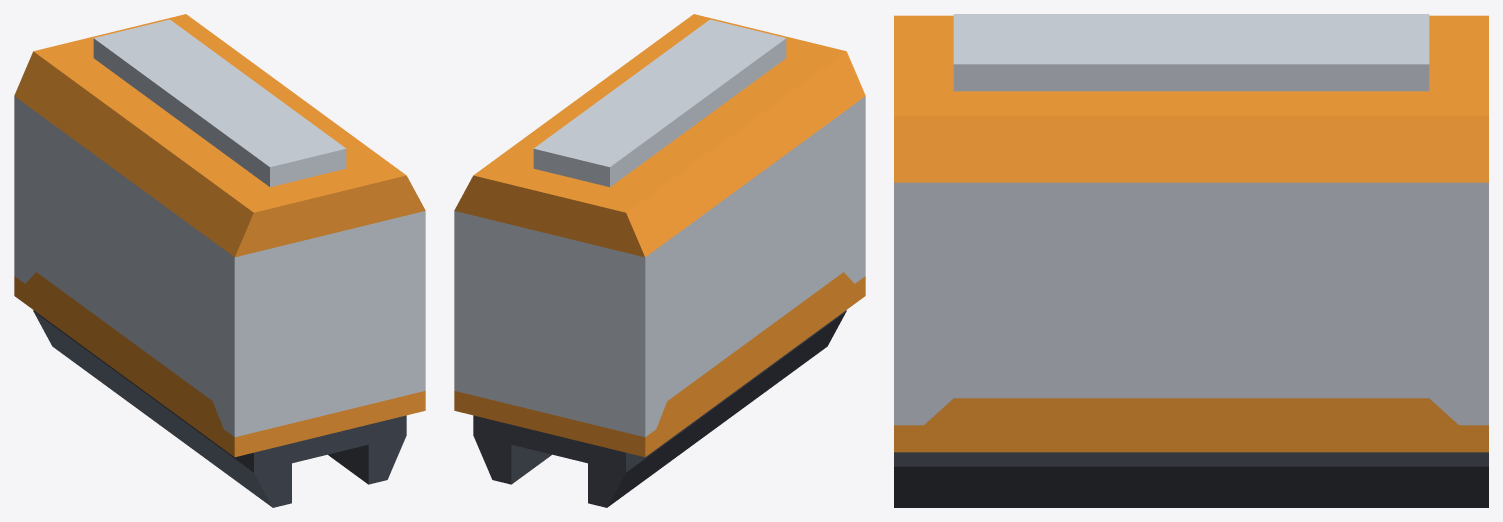
File: monorail_trainBox.glb
The picture shows the model from 3 angles, left to right: view 1: azimuth 30°, elevation 25°; view 2: azimuth 150°, elevation 25°; view 3: azimuth 270°, elevation 25°; orthographic projection. The views are drawn at different scales.
Parts seen in each view (by area): view 1: monorail_trainBox; view 2: monorail_trainBox; view 3: monorail_trainBox.
Boxes of the visible parts, x1,y1,x2,y2 form: monorail_trainBox: [14, 14, 425, 507]; monorail_trainBox: [454, 14, 865, 507]; monorail_trainBox: [894, 14, 1488, 507].
Size of the model in its own units: 0.5 by 0.8 by 1.
